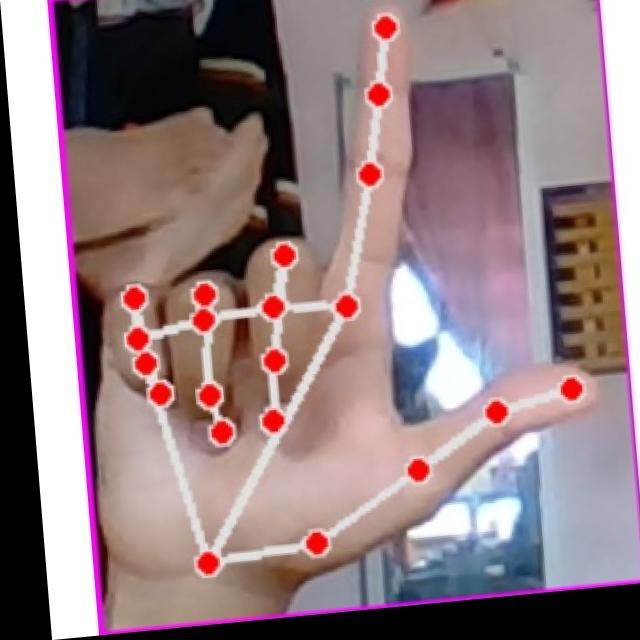L: (67, 0, 614, 606)
